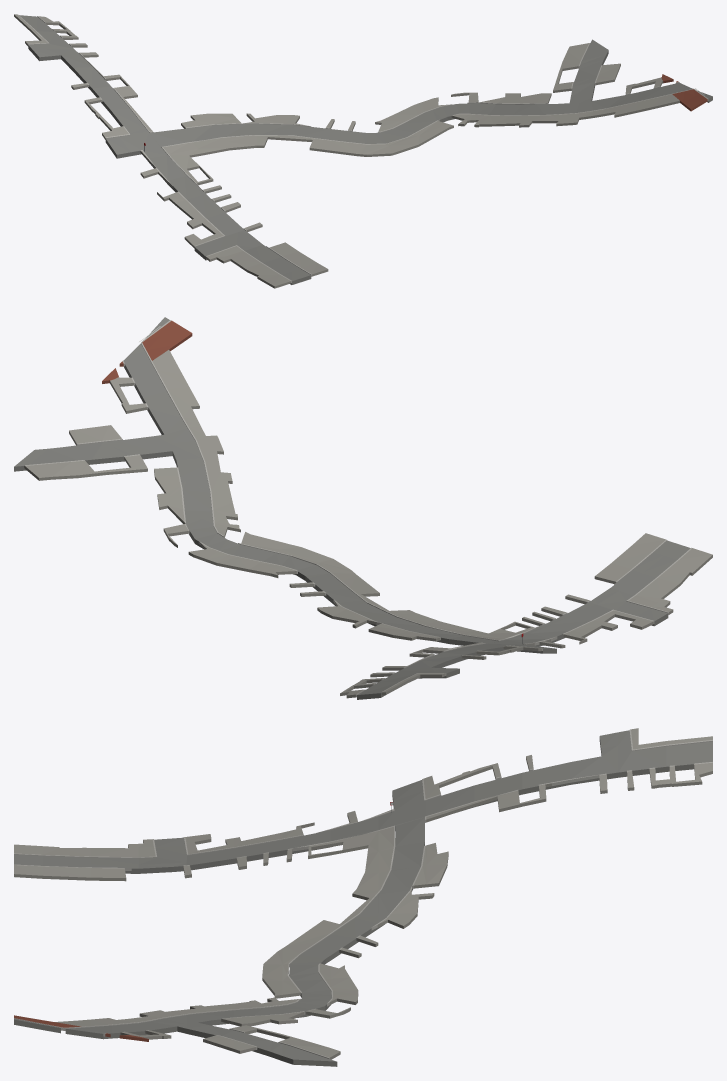
3 views of the same model, one above another, from view 1: azimuth 30°, elevation 25°; view 2: azimuth 150°, elevation 25°; view 3: azimuth 270°, elevation 25° (orthographic). The views are drawn at different scales.
Bounding box in the file's own units: 147 × 28.2 × 146.
